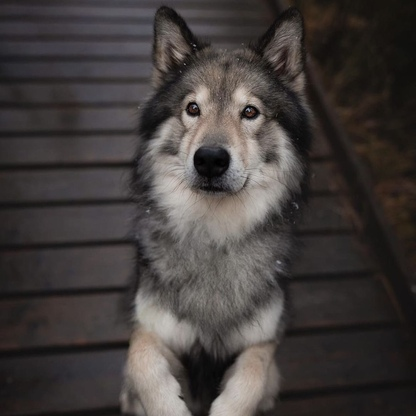husky: (109, 1, 327, 416)
